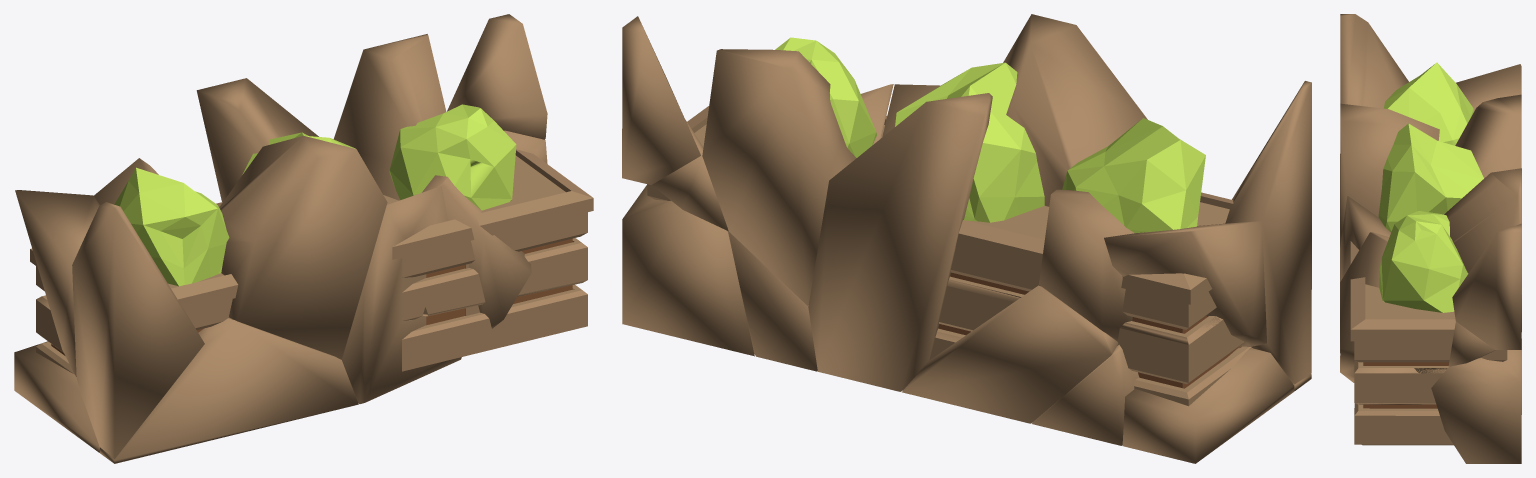
The model's file is rootnode_006_chunks.glb.
3 views of the same model, side by side, from view 1: azimuth 30°, elevation 25°; view 2: azimuth 150°, elevation 25°; view 3: azimuth 270°, elevation 25° (orthographic). The views are drawn at different scales.
Parts seen in each view (by area): view 1: PlanterBushes.002_cell.028, PlanterBushes.002_cell.009, PlanterBushes.002_cell.017, PlanterBushes.002_cell.007, PlanterBushes.002_cell.022, PlanterBushes.002_cell.023, PlanterBushes.002_cell.029, PlanterBushes.002_cell.016, PlanterBushes.002_cell.001, PlanterBushes.002_cell.006, PlanterBushes.002_cell.004, PlanterBushes.002_cell.018 (+11 smaller); view 2: PlanterBushes.002_cell.004, PlanterBushes.002_cell.023, PlanterBushes.002_cell.019, PlanterBushes.002_cell.028, PlanterBushes.002_cell.015, PlanterBushes.002_cell.009, PlanterBushes.002_cell.029, PlanterBushes.002_cell.001, PlanterBushes.002_cell.025, PlanterBushes.002_cell.011, PlanterBushes.002_cell.014, PlanterBushes.002_cell.006 (+17 smaller); view 3: PlanterBushes.002_cell.015, PlanterBushes.002_cell.029, PlanterBushes.002_cell.028, PlanterBushes.002_cell, PlanterBushes.002_cell.023, PlanterBushes.002_cell.009, PlanterBushes.002_cell.020, PlanterBushes.002_cell.004, PlanterBushes.002_cell.021, PlanterBushes.002_cell.018, PlanterBushes.002_cell.027, PlanterBushes.002_cell.016 (+31 smaller).
Part boxes in pixels (x1,y1,x2,y2): PlanterBushes.002_cell.028: [123, 135, 387, 358]; PlanterBushes.002_cell.009: [72, 202, 204, 459]; PlanterBushes.002_cell.017: [100, 318, 358, 463]; PlanterBushes.002_cell.007: [36, 186, 461, 403]; PlanterBushes.002_cell.022: [36, 212, 587, 329]; PlanterBushes.002_cell.023: [333, 34, 446, 200]; PlanterBushes.002_cell.029: [168, 14, 565, 288]; PlanterBushes.002_cell.016: [30, 130, 593, 309]; PlanterBushes.002_cell.001: [15, 190, 100, 376]; PlanterBushes.002_cell.006: [36, 284, 587, 374]; PlanterBushes.002_cell.004: [196, 78, 318, 201]; PlanterBushes.002_cell.018: [197, 175, 572, 332]; PlanterBushes.002_cell.004: [808, 93, 1185, 391]; PlanterBushes.002_cell.023: [702, 49, 1241, 383]; PlanterBushes.002_cell.019: [902, 285, 1118, 423]; PlanterBushes.002_cell.028: [1003, 14, 1205, 229]; PlanterBushes.002_cell.015: [622, 184, 754, 356]; PlanterBushes.002_cell.009: [1225, 81, 1311, 384]; PlanterBushes.002_cell.029: [622, 16, 1229, 326]; PlanterBushes.002_cell.001: [1104, 221, 1266, 346]; PlanterBushes.002_cell.025: [1122, 347, 1294, 463]; PlanterBushes.002_cell.011: [1039, 189, 1134, 340]; PlanterBushes.002_cell.014: [940, 63, 1216, 330]; PlanterBushes.002_cell.006: [727, 229, 1252, 405]; PlanterBushes.002_cell.015: [1431, 339, 1521, 463]; PlanterBushes.002_cell.029: [1365, 223, 1521, 356]; PlanterBushes.002_cell.028: [1340, 70, 1464, 247]; PlanterBushes.002_cell: [1350, 253, 1507, 362]; PlanterBushes.002_cell.023: [1444, 168, 1521, 331]; PlanterBushes.002_cell.009: [1340, 14, 1408, 108]; PlanterBushes.002_cell.020: [1354, 346, 1442, 424]; PlanterBushes.002_cell.004: [1455, 94, 1521, 178]; PlanterBushes.002_cell.021: [1378, 123, 1461, 232]; PlanterBushes.002_cell.018: [1340, 232, 1448, 408]; PlanterBushes.002_cell.027: [1354, 362, 1453, 444]; PlanterBushes.002_cell.016: [1350, 241, 1521, 366].
Bounding box in the file's own units: 2.47 × 1.22 × 0.8692.
